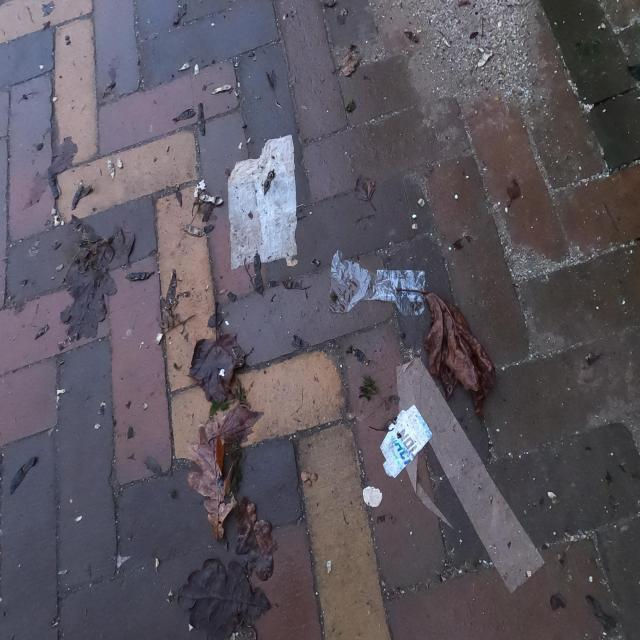Paper: (226, 132, 298, 272), (379, 402, 433, 480), (362, 485, 383, 508)
Plastic: (328, 248, 426, 318)
